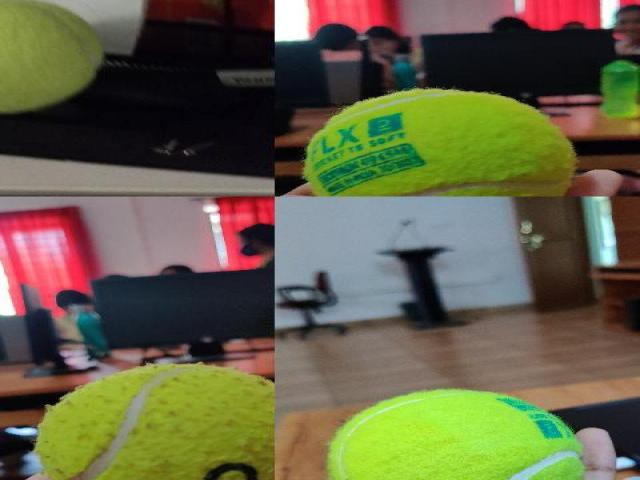tennis-ball: (304, 88, 576, 196), (35, 364, 274, 479), (328, 389, 583, 479), (0, 0, 105, 114)
